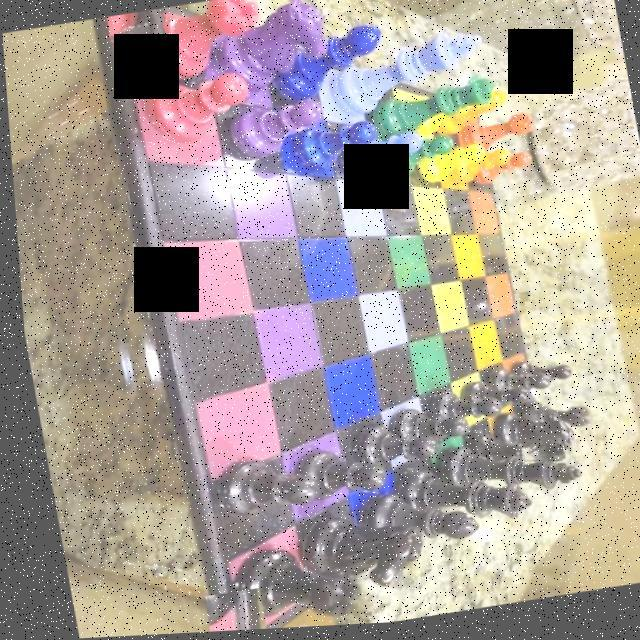chess-table-corners: (192, 588, 256, 634), (438, 82, 494, 134), (106, 8, 169, 52), (508, 424, 558, 470)
